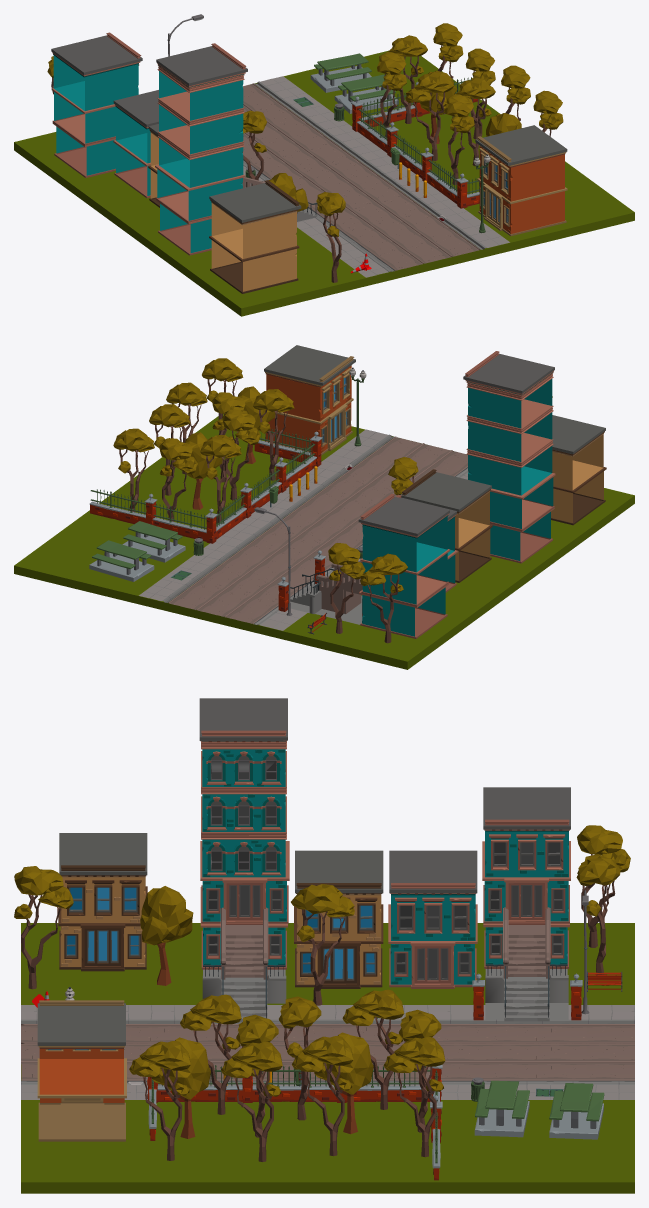
The model's file is House Area 4.fbx.
The picture shows the model from 3 angles, top to bottom: view 1: azimuth 30°, elevation 25°; view 2: azimuth 150°, elevation 25°; view 3: azimuth 270°, elevation 25°; orthographic projection. The views are drawn at different scales.
Visible parts, largest first — view 1: Plane.004, SM_Bld_Apartment_Roof_02.019, SM_Env_Path_Straight_01.011, SM_Bld_Apartment_01.006, SM_Bld_Apartment_Roof_02.021, SM_Bld_Apartment_Roof_02.030, SM_Env_Sidewalk_Straight_01.007, SM_Bld_Apartment_Roof_02.017, SM_Env_Sidewalk_Straight_01.006, SM_Prop_PicnicTable_01, SM_Env_Tree_02.013, SM_Prop_PicnicTable_01.001 (+18 smaller); view 2: Plane.004, SM_Env_Path_Straight_01.011, SM_Bld_Apartment_Roof_02.019, SM_Bld_Apartment_01.006, SM_Bld_Apartment_Roof_02.030, SM_Env_Sidewalk_Straight_01.007, SM_Bld_Apartment_Roof_02.021, SM_Bld_Apartment_Roof_02.006, SM_Prop_PicnicTable_01, SM_Prop_PicnicTable_01.001, SM_Env_Tree_02.016, SM_Env_Tree_02.025 (+20 smaller); view 3: Plane.004, SM_Bld_Apartment_Roof_02.019, SM_Bld_Apartment_01.006, SM_Env_Path_Straight_01.011, SM_Bld_Apartment_Roof_02.030, SM_Bld_Apartment_Roof_02.017, SM_Bld_Apartment_Roof_02.021, SM_Bld_Apartment_Roof_02.006, SM_Env_Sidewalk_Straight_01.006, SM_Env_Sidewalk_Straight_01.007, SM_Env_Tree_03.011, SM_Env_Tree_02.015 (+19 smaller).
Part boxes in pixels (x1,y1,x2,y2): Plane.004: (14,50,634,316); SM_Bld_Apartment_Roof_02.019: (155,43,323,255); SM_Env_Path_Straight_01.011: (242,83,480,270); SM_Bld_Apartment_01.006: (51,32,142,177); SM_Bld_Apartment_Roof_02.021: (209,180,301,293); SM_Bld_Apartment_Roof_02.030: (475,125,567,236); SM_Env_Sidewalk_Straight_01.007: (254,76,509,249); SM_Bld_Apartment_Roof_02.017: (113,90,158,198); SM_Env_Sidewalk_Straight_01.006: (167,14,395,277); SM_Prop_PicnicTable_01: (310,53,371,92); SM_Env_Tree_02.013: (405,71,453,160); SM_Prop_PicnicTable_01.001: (334,74,398,113); Plane.004: (14,414,634,669); SM_Env_Path_Straight_01.011: (168,436,467,624); SM_Bld_Apartment_Roof_02.019: (463,351,555,563); SM_Bld_Apartment_01.006: (290,493,450,638); SM_Bld_Apartment_Roof_02.030: (264,345,355,455); SM_Env_Sidewalk_Straight_01.007: (139,367,394,602); SM_Bld_Apartment_Roof_02.021: (551,415,606,525); SM_Bld_Apartment_Roof_02.006: (400,469,492,582); SM_Prop_PicnicTable_01: (89,540,154,581); SM_Prop_PicnicTable_01.001: (122,521,185,562); SM_Env_Tree_02.016: (360,553,407,643); SM_Env_Tree_02.025: (328,543,365,633); Plane.004: (21,923,634,1193); SM_Bld_Apartment_Roof_02.019: (199,698,289,1023); SM_Bld_Apartment_01.006: (482,787,570,1021); SM_Env_Path_Straight_01.011: (21,1024,634,1080); SM_Bld_Apartment_Roof_02.030: (37,1000,126,1141); SM_Bld_Apartment_Roof_02.017: (388,850,477,988); SM_Bld_Apartment_Roof_02.021: (58,833,147,971); SM_Bld_Apartment_Roof_02.006: (294,850,383,988); SM_Env_Sidewalk_Straight_01.006: (21,890,634,1023); SM_Env_Sidewalk_Straight_01.007: (21,987,634,1099); SM_Env_Tree_03.011: (140,886,193,985); SM_Env_Tree_02.015: (14,866,73,989).
Size of the model in its own units: 10000 by 4469 by 10117.
